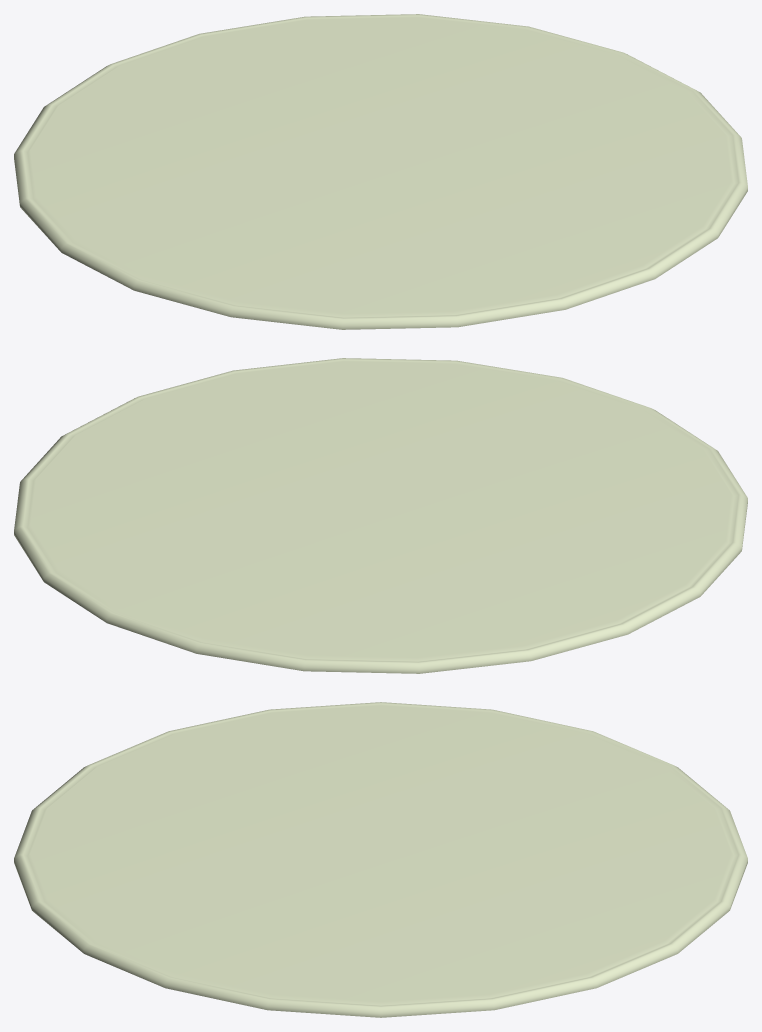
File: rug_round.fbx
3 views of the same model, one above another, from view 1: azimuth 30°, elevation 25°; view 2: azimuth 150°, elevation 25°; view 3: azimuth 270°, elevation 25° (orthographic).
Parts seen in each view (by area): view 1: polySurface106; view 2: polySurface106; view 3: polySurface106.
Part boxes in pixels (left/top/right/bottom): polySurface106: left=14, top=14, right=747, bottom=329; polySurface106: left=14, top=358, right=747, bottom=673; polySurface106: left=14, top=702, right=747, bottom=1017.
Bounding box in the file's own units: 2 × 0.0274 × 2.
